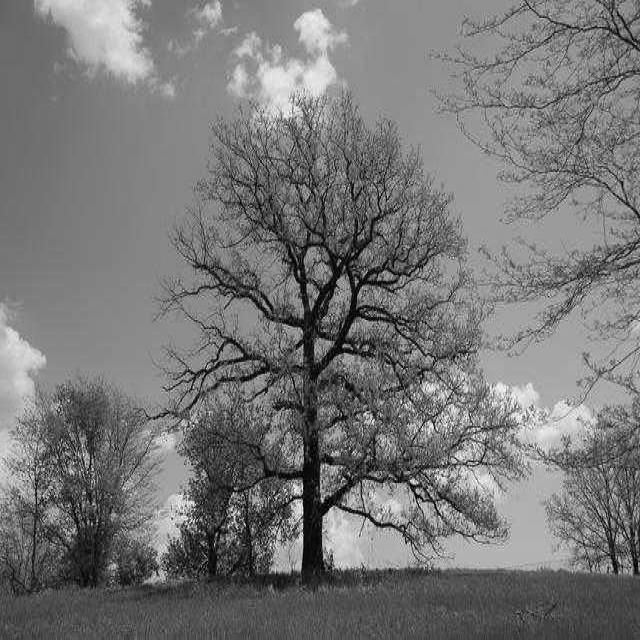Tree: (163, 94, 518, 576), (0, 383, 156, 592), (162, 403, 298, 578)
